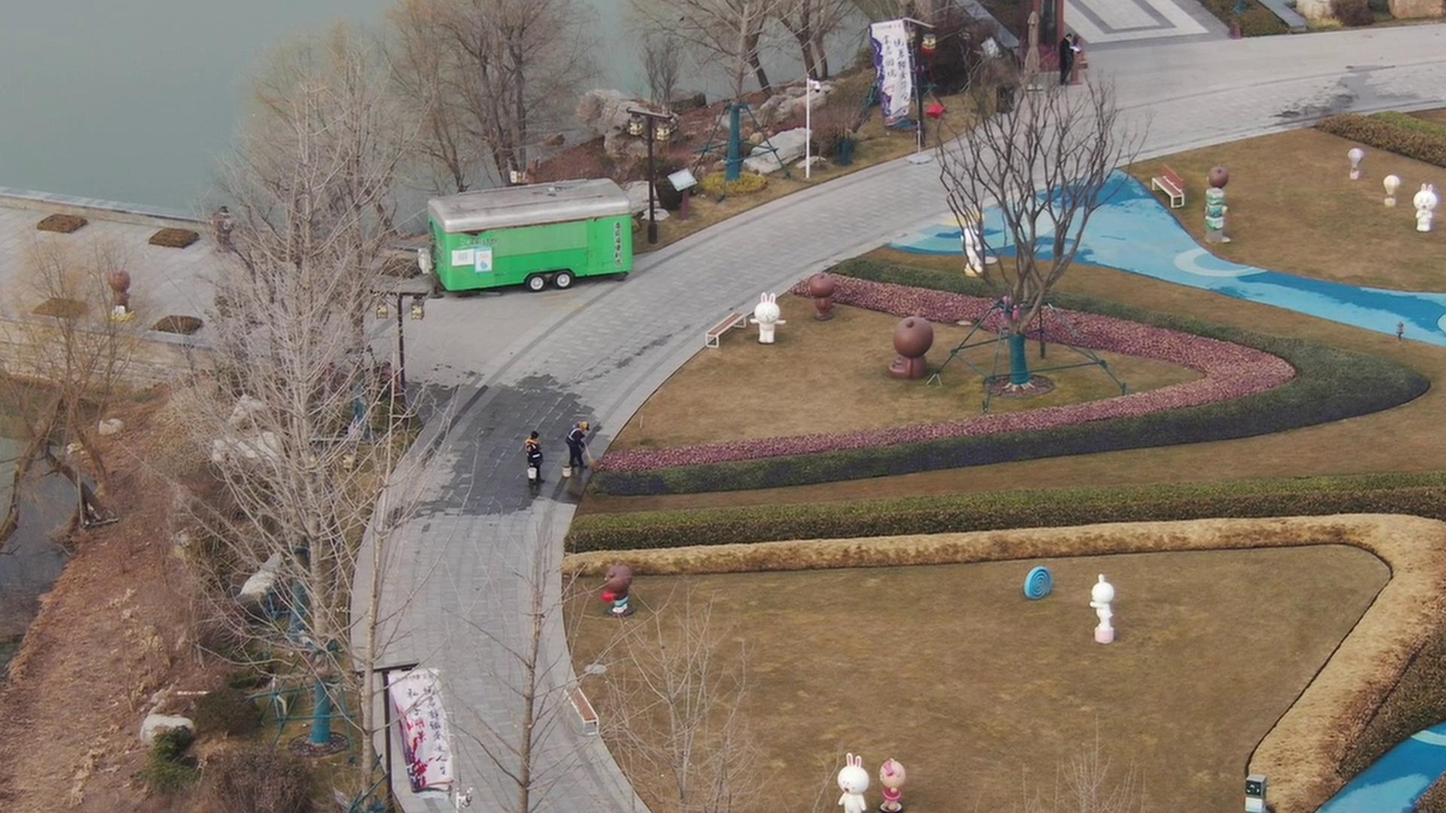human: (514, 420, 554, 489), (561, 416, 593, 476), (1059, 23, 1082, 84)
